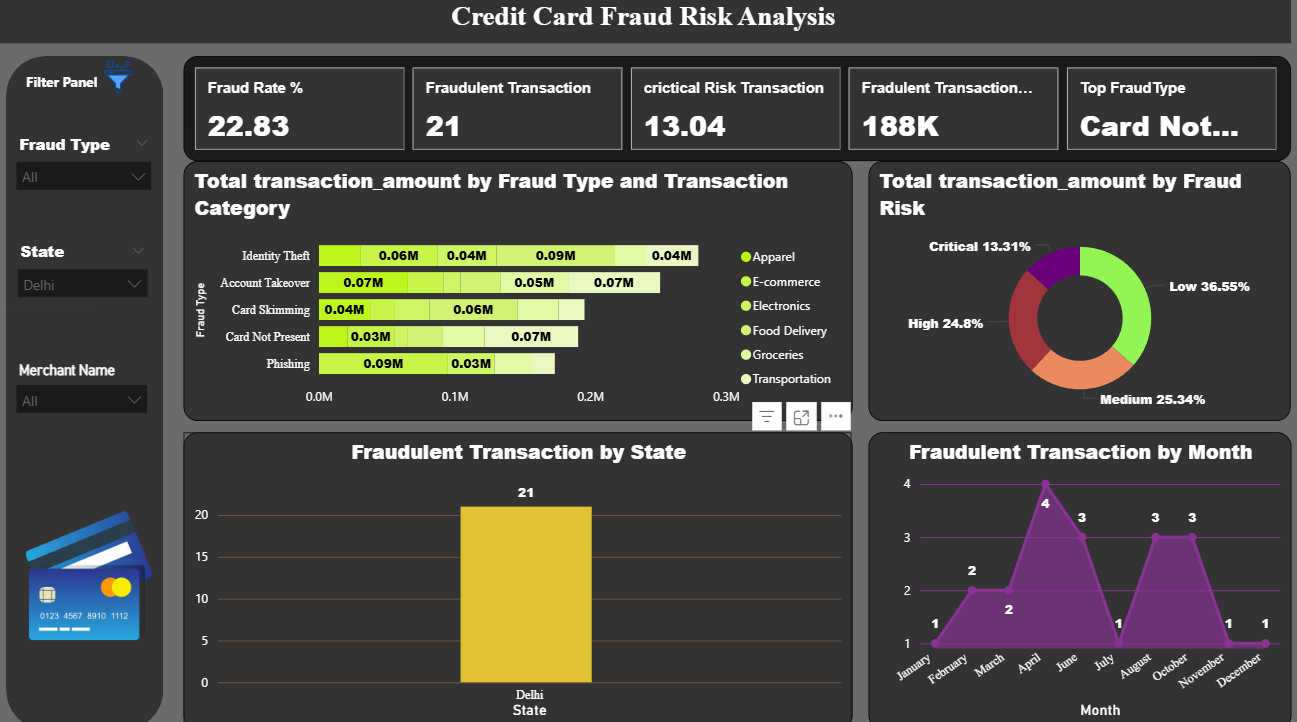

What the dashboard file says about the page in this screenshot:
{"tool":"powerbi","page":{"name":"Page 1","canvas":[1280,720],"ordinal":0},"visuals":[{"type":"textbox","box":[0,0,1271.2,46.6],"z":0},{"type":"shape","box":[9.8,58.9,154.6,661.4],"z":1},{"type":"textbox","box":[24.5,69.9,94.5,40.5],"z":2},{"type":"image","box":[81,58.9,77.3,42.9],"z":3},{"type":"barChart","fields":{"Y":["Credit Card Fraud Risk Analysis.total transaction_amount"],"Category":["Credit Card Fraud Risk Analysis.Fraud Type"],"Series":["Credit Card Fraud Risk Analysis.Transaction Category"]},"box":[184.1,162,656.4,255.2],"z":4},{"type":"donutChart","fields":{"Y":["Credit Card Fraud Risk Analysis.total transaction_amount"],"Category":["Credit Card Fraud Risk Analysis.Fraud Risk"]},"box":[856.4,162,414.7,255.2],"z":5},{"type":"columnChart","fields":{"Category":["Credit Card Fraud Risk Analysis.State"],"Y":["Credit Card Fraud Risk Analysis.Fraudulent Transaction"]},"box":[184.1,428.2,656.4,292],"z":6},{"type":"lineChart","fields":{"Category":["Credit Card Fraud Risk Analysis.Transaction Date.Variation.Date Hierarchy.Month","Credit Card Fraud Risk Analysis.Transaction Date.Variation.Date Hierarchy.Day"],"Y":["Credit Card Fraud Risk Analysis.Fraudulent Transaction"]},"box":[856,428,415,292],"z":7},{"type":"slicer","fields":{"Values":["Credit Card Fraud Risk Analysis.Fraud Type"]},"box":[9.8,130.1,152.1,79.8],"z":8},{"type":"slicer","fields":{"Values":["Credit Card Fraud Risk Analysis.State"]},"box":[11,235.6,147.2,67.5],"z":9},{"type":"slicer","fields":{"Values":["Credit Card Fraud Risk Analysis.Merchant Name"]},"box":[9.8,353.4,148.5,72.4],"z":10},{"type":"image","box":[24.5,446.6,133.7,244.2],"z":11},{"type":"cardVisual","fields":{"Data":["Credit Card Fraud Risk Analysis.Fraud Rate %","Credit Card Fraud Risk Analysis.Fraudulent Transaction","Credit Card Fraud Risk Analysis.crictical Risk Transaction","Credit Card Fraud Risk Analysis.Fradulent Transaction Amount","Credit Card Fraud Risk Analysis.Top FraudType"]},"box":[184.1,58.9,1087.1,103.1],"z":12}]}

Visuals, with their boxes in screenshot pixels (x1, y1, x2, y2), scaled from the page's 1280x720 canvas onto the 1297x722 screenshot:
textbox: x1=0, y1=0, x2=1288, y2=47
shape: x1=10, y1=59, x2=167, y2=721
textbox: x1=25, y1=70, x2=121, y2=111
image: x1=82, y1=59, x2=160, y2=102
barChart - Credit Card Fraud Risk Analysis.total transaction_amount x Credit Card Fraud Risk Analysis.Fraud Type: x1=187, y1=162, x2=852, y2=418
donutChart - Credit Card Fraud Risk Analysis.total transaction_amount x Credit Card Fraud Risk Analysis.Fraud Risk: x1=868, y1=162, x2=1288, y2=418
columnChart - Credit Card Fraud Risk Analysis.State x Credit Card Fraud Risk Analysis.Fraudulent Transaction: x1=187, y1=429, x2=852, y2=721
lineChart - Credit Card Fraud Risk Analysis.Transaction Date.Variation.Date Hierarchy.Month x Credit Card Fraud Risk Analysis.Transaction Date.Variation.Date Hierarchy.Day: x1=867, y1=429, x2=1288, y2=721
slicer - Credit Card Fraud Risk Analysis.Fraud Type: x1=10, y1=130, x2=164, y2=210
slicer - Credit Card Fraud Risk Analysis.State: x1=11, y1=236, x2=160, y2=304
slicer - Credit Card Fraud Risk Analysis.Merchant Name: x1=10, y1=354, x2=160, y2=427
image: x1=25, y1=448, x2=160, y2=693
cardVisual - Credit Card Fraud Risk Analysis.Fraud Rate % x Credit Card Fraud Risk Analysis.Fraudulent Transaction: x1=187, y1=59, x2=1288, y2=162
